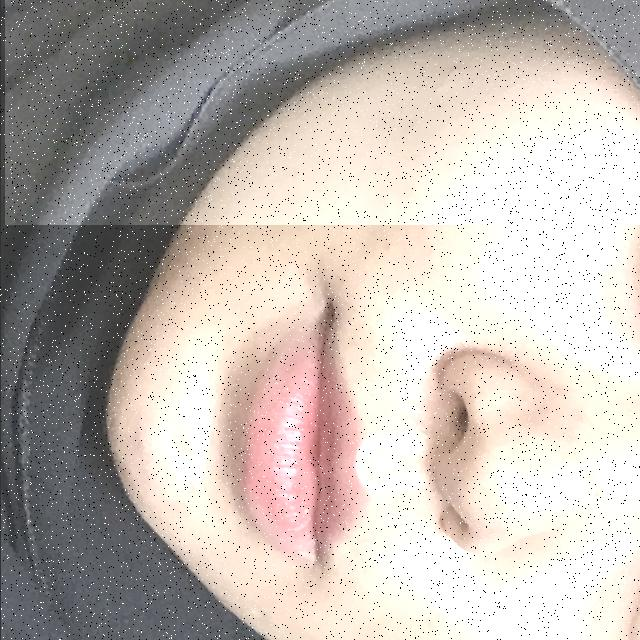mendengar: (4, 0, 640, 225)
